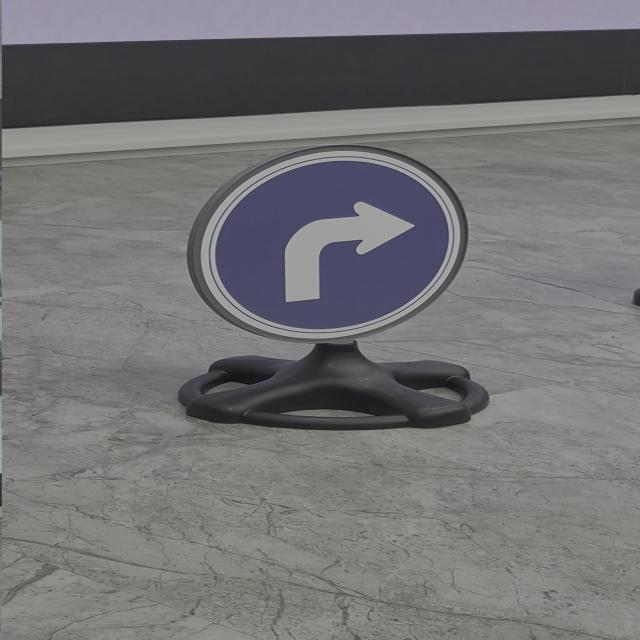right_dierection: (185, 137, 466, 343)
